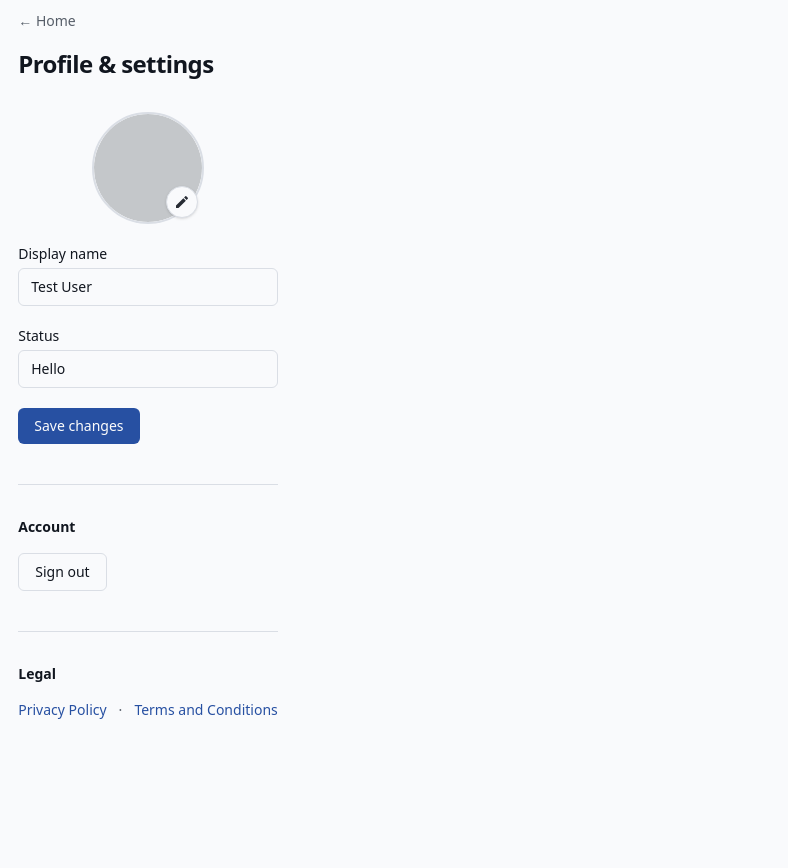
Test: MSW integration (server.use) › PATCH profile: shows API error message on 400 ErrorResponse
Replace the text in the field labelled "Display name" with "New Name" at point(148, 287), box 18,268 -> 278,306
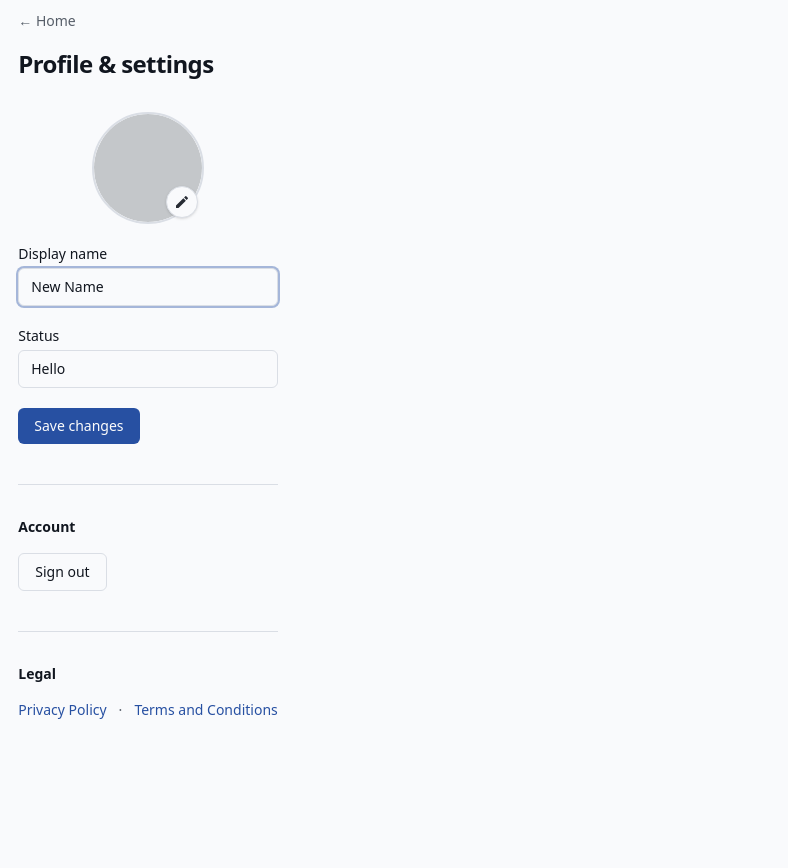
Click the button "Save changes" at point(79, 426), box 18,408 -> 140,444
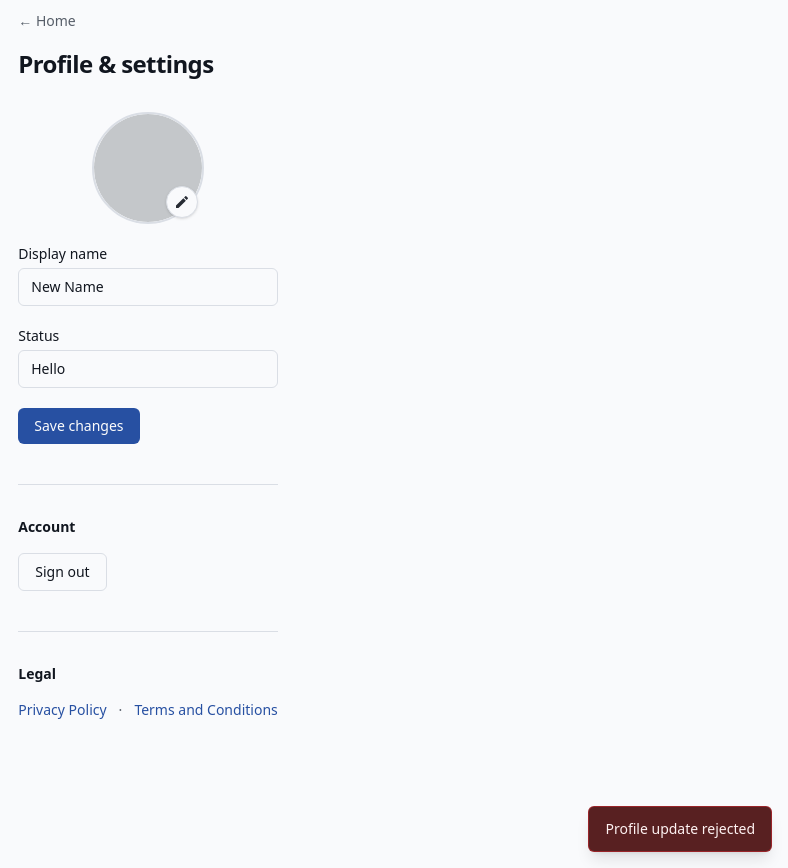
Now the text "Profile update rejected" is shown, box 588,806 -> 772,852
